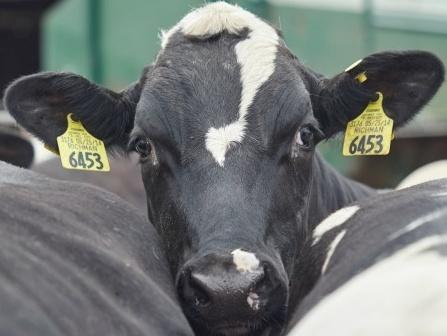muzzles: (169, 249, 291, 335)
